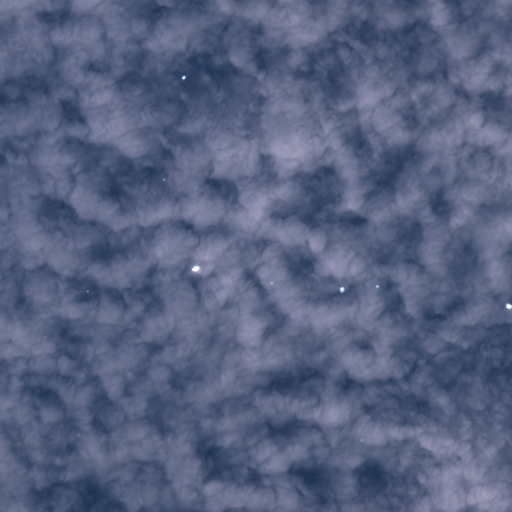Iceberg: (192, 266, 199, 271), (506, 303, 511, 308), (340, 287, 344, 292), (182, 75, 185, 79), (376, 285, 379, 287), (163, 178, 164, 180), (87, 290, 88, 292), (239, 187, 240, 188), (271, 282, 272, 283), (78, 434, 79, 435), (361, 439, 362, 440)
